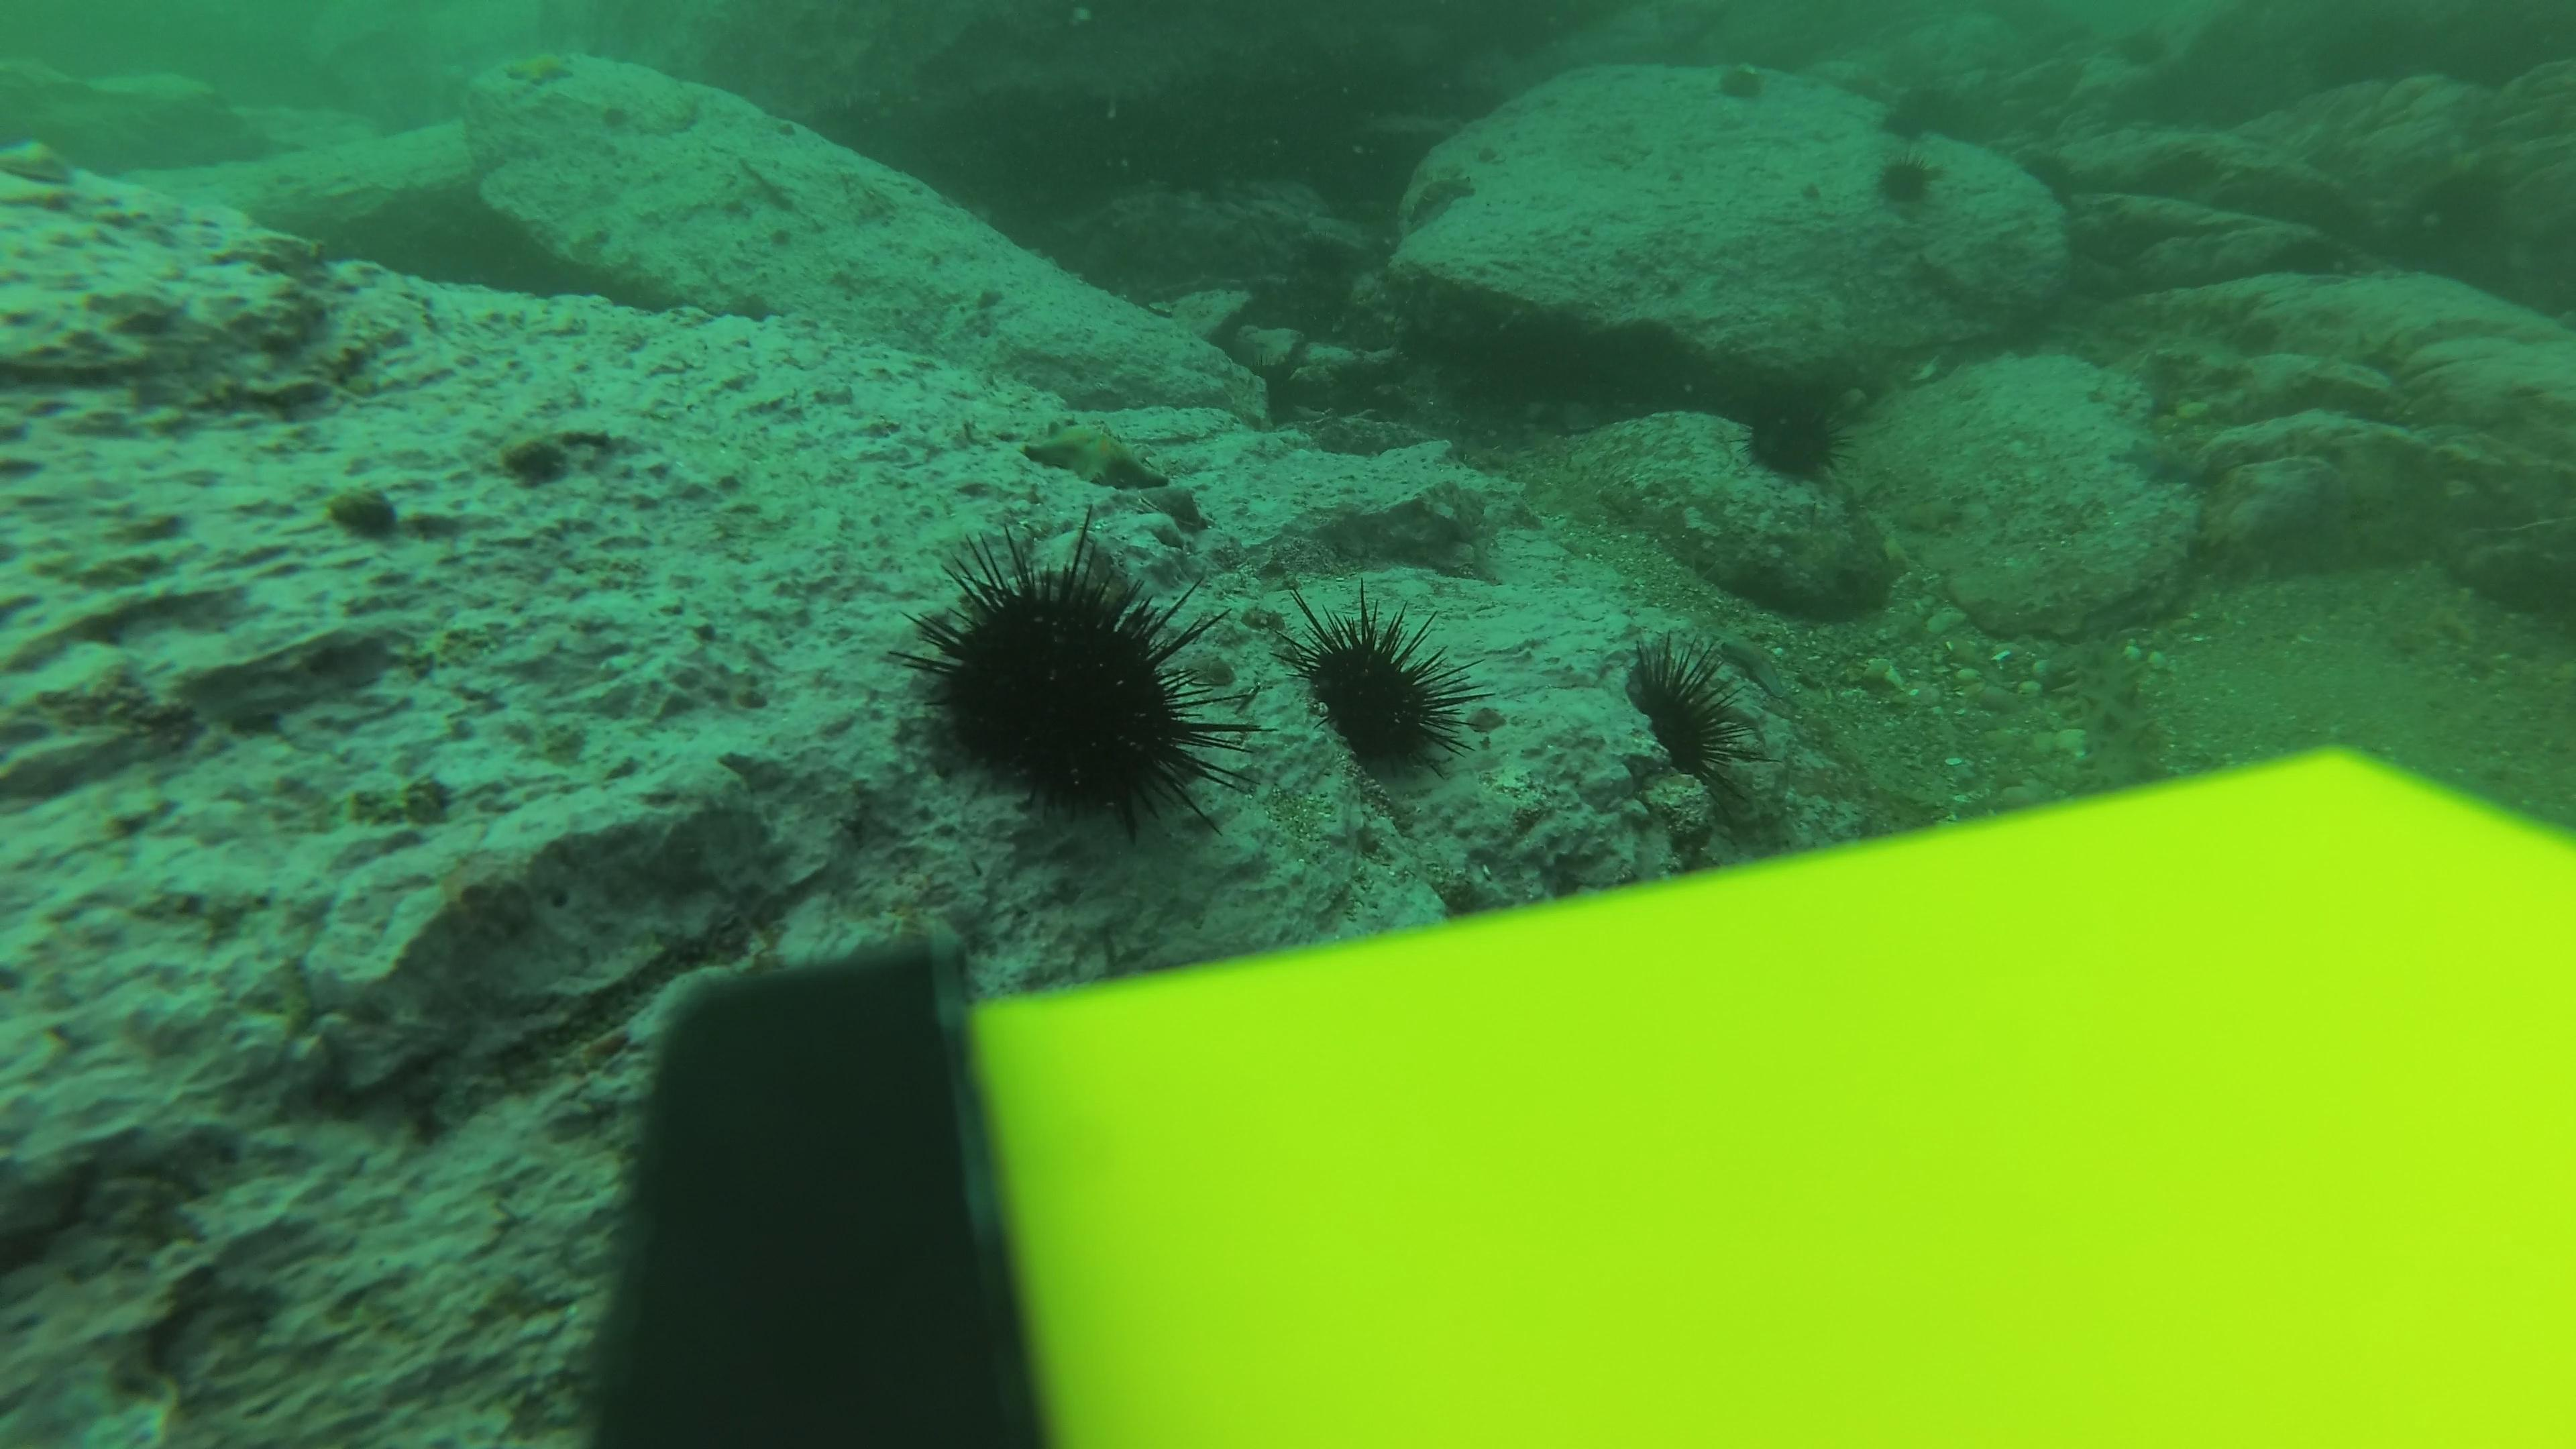urchin: (899, 527, 1240, 842), (1274, 594, 1491, 778), (1615, 649, 1789, 800), (1721, 384, 1838, 485), (1877, 78, 1971, 138), (1709, 57, 1782, 115), (1874, 150, 1936, 205)
